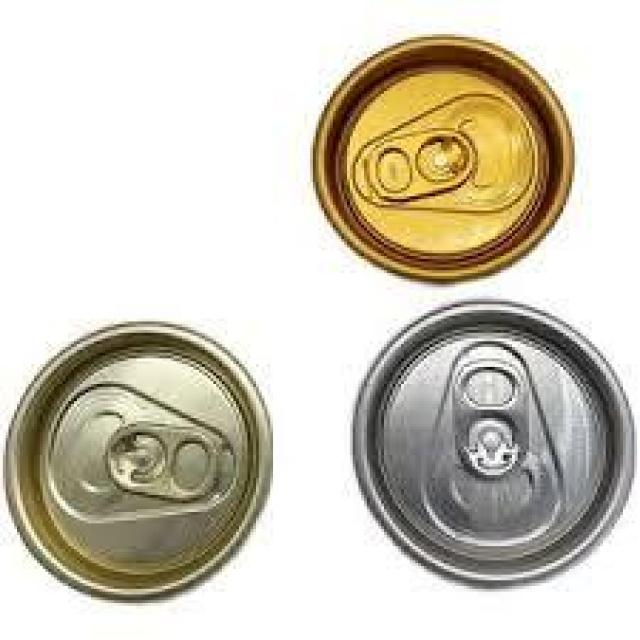pop tab: (99, 418, 227, 512), (446, 356, 532, 482), (350, 131, 479, 211)
